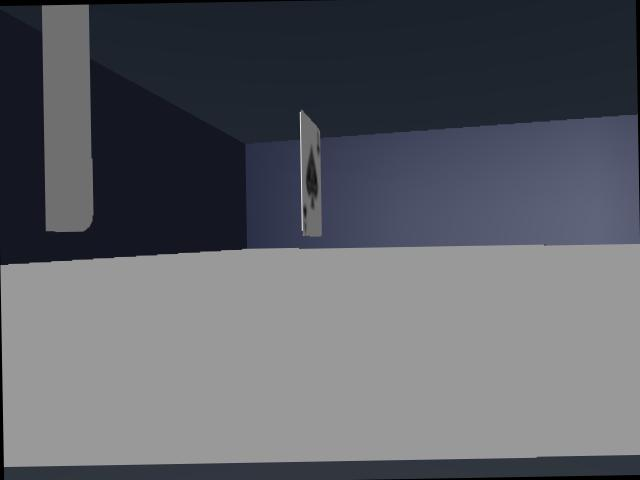club: (300, 111, 321, 236)
